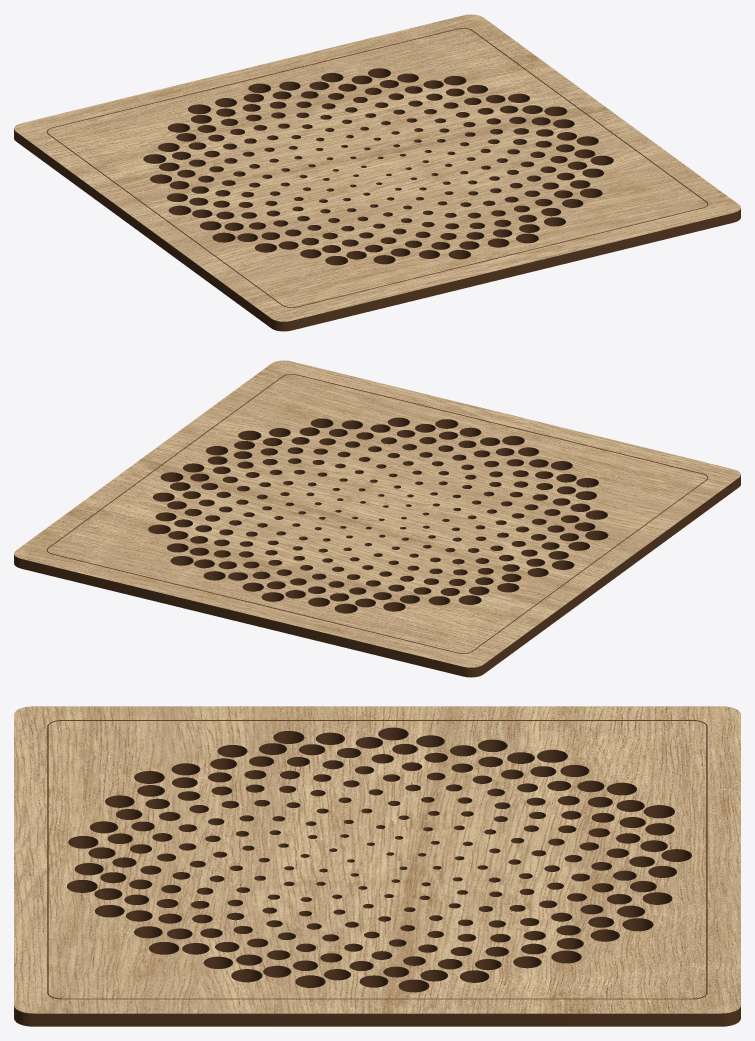
Rendered from sunflower-panel.glb.
3 views of the same model, one above another, from view 1: azimuth 30°, elevation 25°; view 2: azimuth 150°, elevation 25°; view 3: azimuth 270°, elevation 25° (orthographic). The views are drawn at different scales.
Visible parts, largest first — view 1: body0, score0; view 2: body0, score0; view 3: body0, score0.
Part boxes in pixels (x1,y1,x2,y2): body0: [14, 14, 740, 331]; score0: [46, 28, 708, 307]; body0: [14, 360, 740, 677]; score0: [46, 374, 708, 653]; body0: [14, 706, 740, 1026]; score0: [47, 720, 707, 999].
Bounding box in the file's own units: 0.15 × 0.00312 × 0.15.
3 materials, 1 textured.
